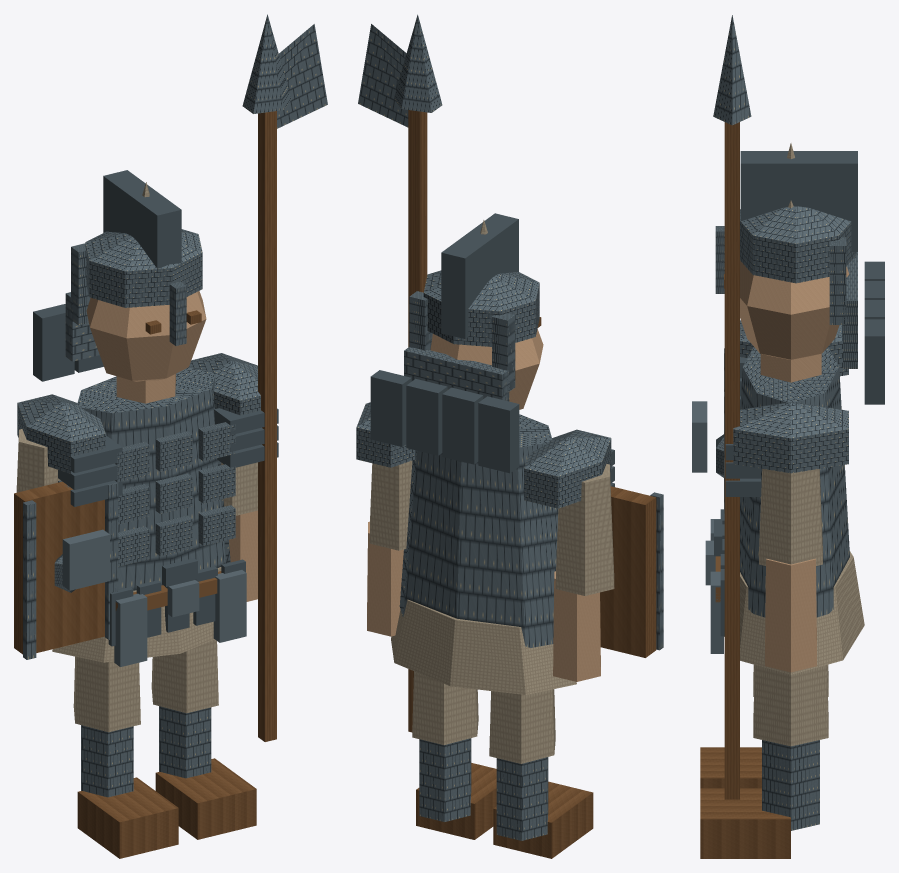
Rendered from unit-HALBERD-lod0.glb.
The picture shows the model from 3 angles, left to right: view 1: azimuth 30°, elevation 25°; view 2: azimuth 150°, elevation 25°; view 3: azimuth 270°, elevation 25°; orthographic projection. The views are drawn at different scales.
Size of the model in its own units: 0.227 by 0.565 by 0.115.
Materials: 1 (1 with a texture image).
